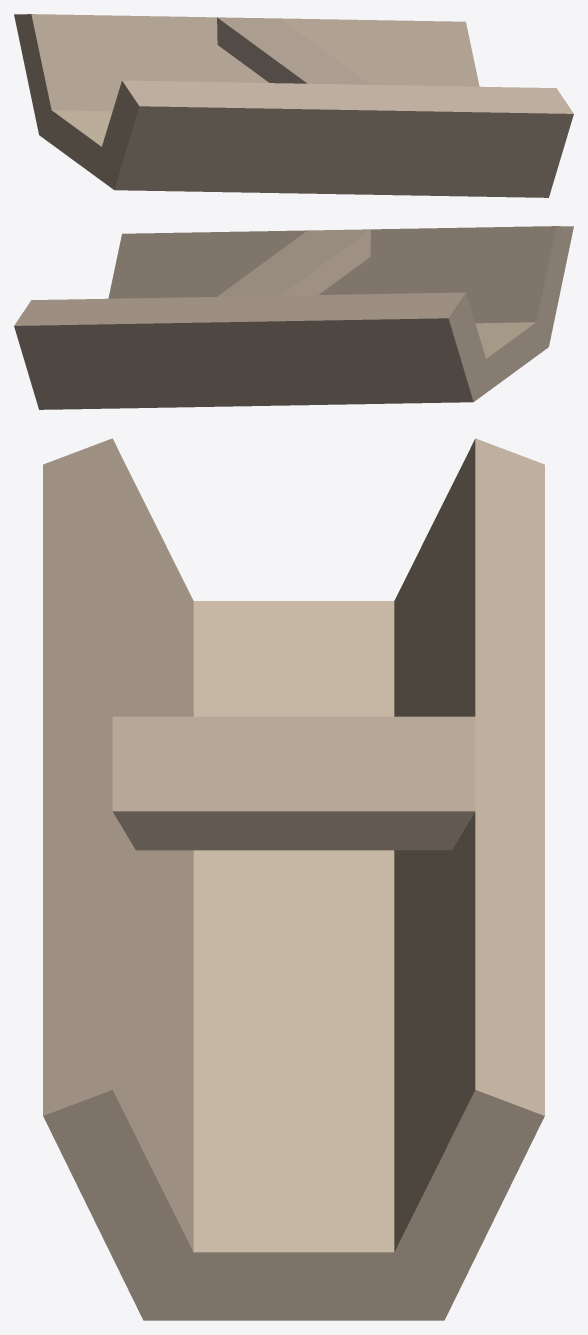
Rendered from Waterwheel_Flume_Ramp.glb.
3 views of the same model, one above another, from view 1: azimuth 30°, elevation 25°; view 2: azimuth 150°, elevation 25°; view 3: azimuth 270°, elevation 25° (orthographic). The views are drawn at different scales.
Visible parts, largest first — view 1: flume_ramp; view 2: flume_ramp; view 3: flume_ramp.
Part boxes in pixels (left/top/right/bottom): flume_ramp: left=14, top=14, right=573, bottom=197; flume_ramp: left=14, top=226, right=573, bottom=409; flume_ramp: left=43, top=438, right=544, bottom=1320.
Size of the model in its own units: 1 by 0.5038 by 0.5.
